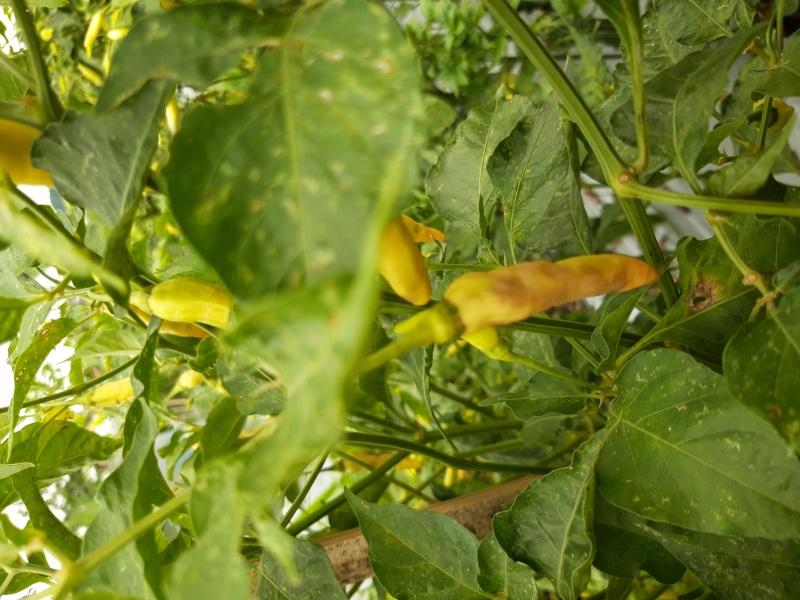cabai_normal: (148, 278, 236, 327)
lalat_buah: (445, 252, 660, 336)
